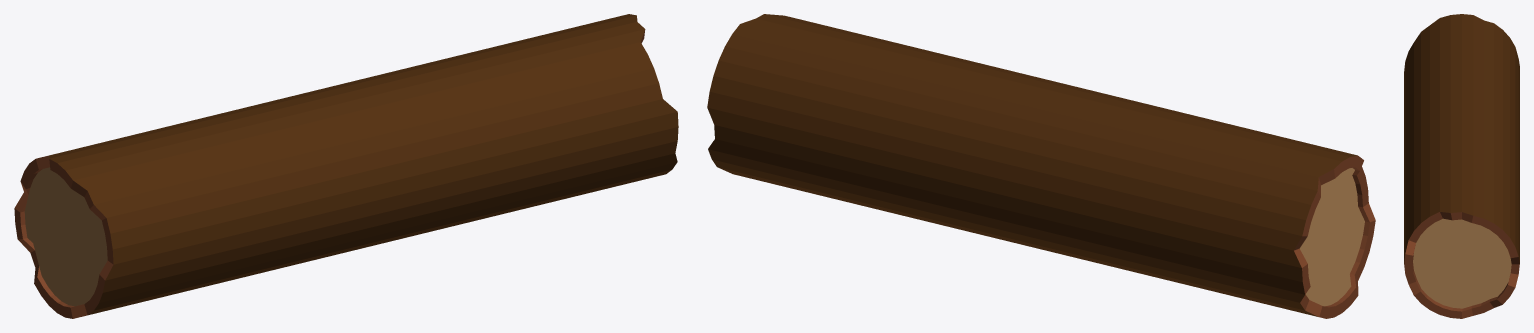
The model's file is Log.fbx.
The picture shows the model from 3 angles, left to right: view 1: azimuth 30°, elevation 25°; view 2: azimuth 150°, elevation 25°; view 3: azimuth 270°, elevation 25°; orthographic projection. The views are drawn at different scales.
Parts seen in each view (by area): view 1: Бревно; view 2: Бревно; view 3: Бревно.
Part boxes in pixels (x1,y1,x2,y2): Бревно: [14, 14, 678, 318]; Бревно: [707, 14, 1375, 318]; Бревно: [1404, 14, 1519, 318].
Bounding box in the file's own units: 1238 × 300 × 300.
